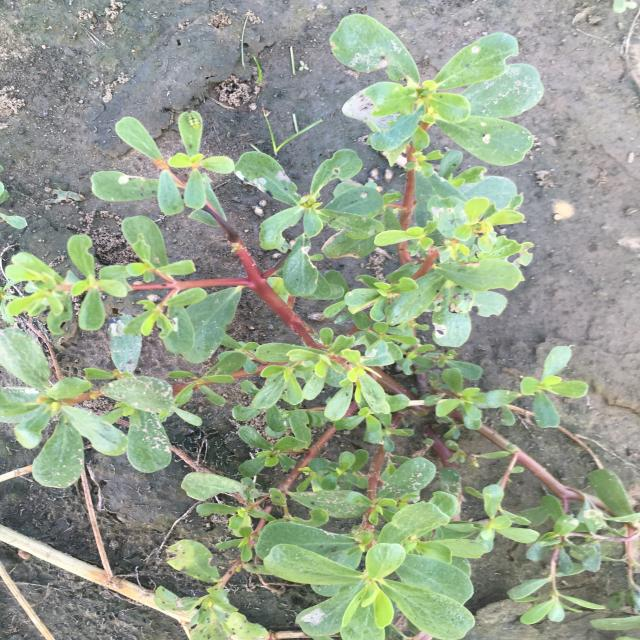Purslane: (0, 14, 639, 640)
